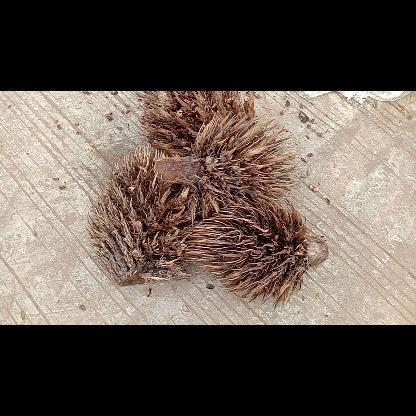Janjang kosong: (183, 196, 330, 306), (89, 143, 194, 284), (153, 110, 299, 210), (135, 90, 255, 156)
